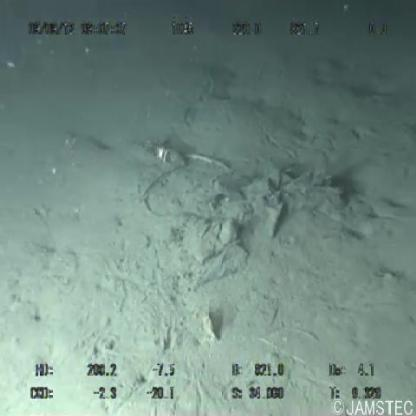Rác: (148, 134, 188, 175)
